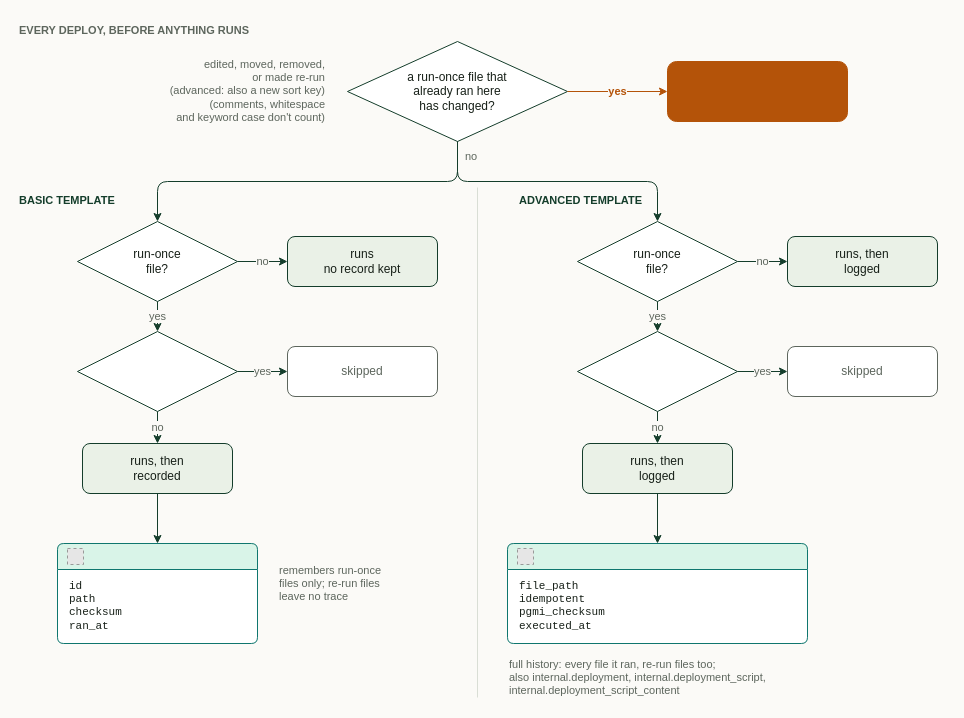
This 964x718 diagram has some shape labels left out. Grey dashed boxes stand in for pictures. The box of each missing label's shape, as (x1, y1, x2, y2) in pixels:
already in the ledger?: (76, 330, 238, 412)
already logged as run-once?: (576, 330, 738, 412)
deploy refused, nothing runs: (666, 60, 848, 122)
deployment.run_once: (56, 542, 258, 644)
internal.deployment_script_execution_log: (506, 542, 808, 644)
